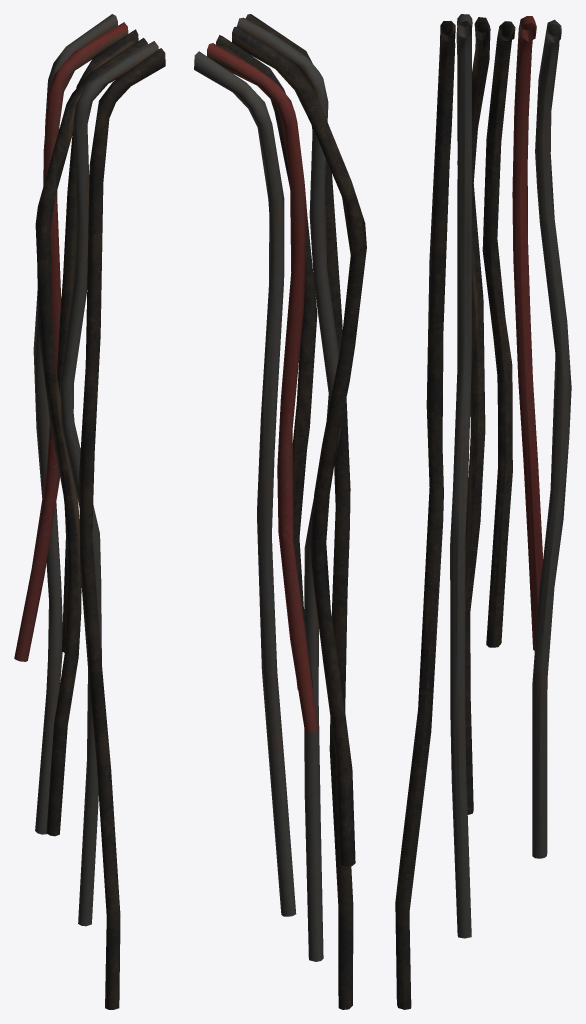
The model's file is danglewires1_reference_004.fbx.
3 views of the same model, side by side, from view 1: azimuth 30°, elevation 25°; view 2: azimuth 150°, elevation 25°; view 3: azimuth 270°, elevation 25° (orthographic). The views are drawn at different scales.
Parts seen in each view (by area): view 1: danglewires1_reference.004; view 2: danglewires1_reference.004; view 3: danglewires1_reference.004.
Part boxes in pixels (bbox=[...]): danglewires1_reference.004: bbox=[14, 14, 165, 1009]; danglewires1_reference.004: bbox=[194, 14, 366, 1009]; danglewires1_reference.004: bbox=[395, 14, 571, 1009].
Bounding box in the file's own units: 29.59 × 223 × 34.71.
